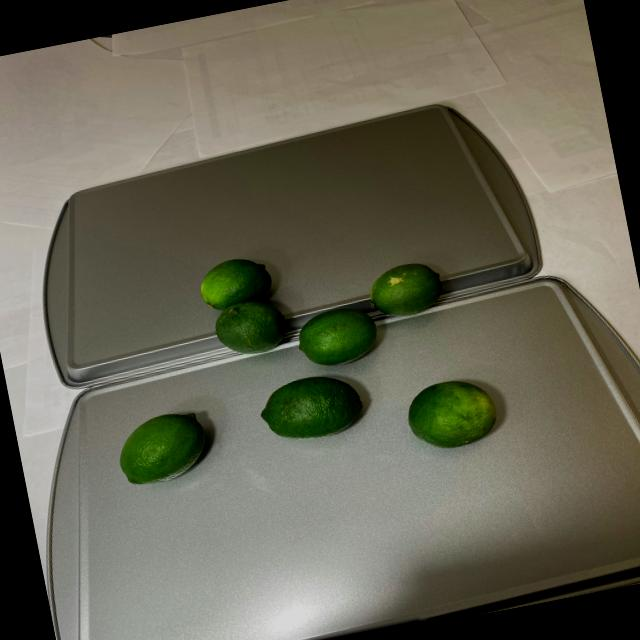lemon: (197, 211, 507, 489), (107, 406, 217, 494)
